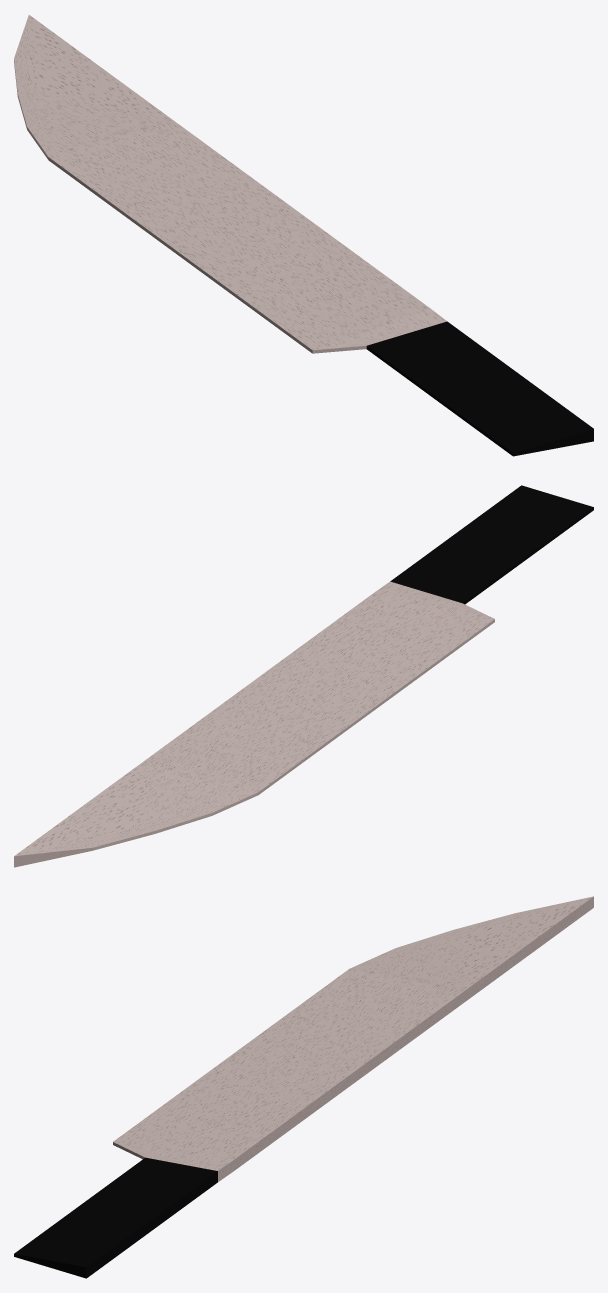
Rendered from Knife blend.fbx.
The picture shows the model from 3 angles, top to bottom: view 1: azimuth 30°, elevation 25°; view 2: azimuth 150°, elevation 25°; view 3: azimuth 330°, elevation 25°; orthographic projection. The views are drawn at different scales.
Parts seen in each view (by area): view 1: Cube, Cube.001; view 2: Cube, Cube.001; view 3: Cube, Cube.001.
Part boxes in pixels (box(x1,y1,x2,y2)): Cube: box(14, 15, 446, 353); Cube.001: box(366, 321, 593, 456); Cube: box(14, 581, 494, 867); Cube.001: box(390, 485, 593, 604); Cube: box(113, 896, 593, 1181); Cube.001: box(14, 1157, 217, 1278).
Bounding box in the file's own units: 100 × 774 × 9.58.
Materials: 2 (1 with a texture image).
